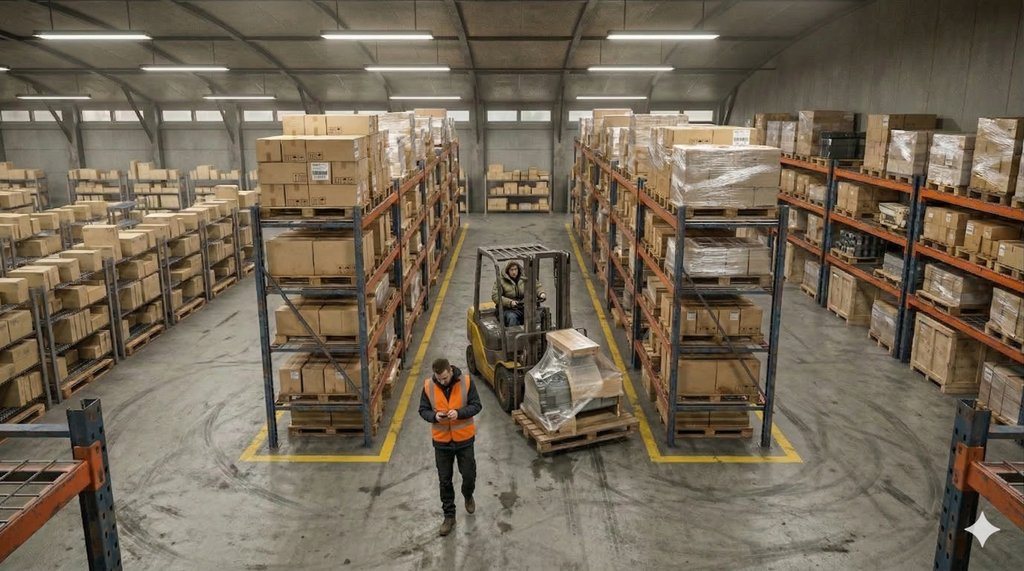empty_shelf: (6, 429, 83, 555)
forklift: (462, 224, 638, 469)
person: (413, 353, 501, 526), (496, 261, 554, 338)
safety_vest: (423, 381, 480, 449)
